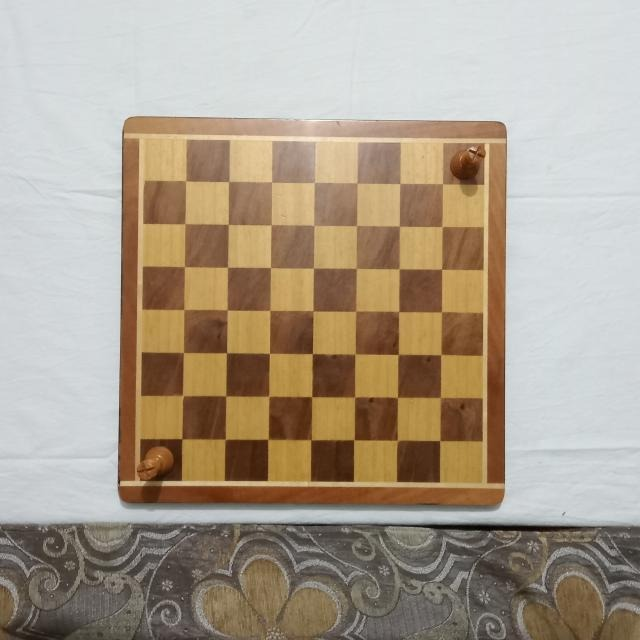white-rook: (448, 139, 490, 181), (136, 443, 176, 483)
